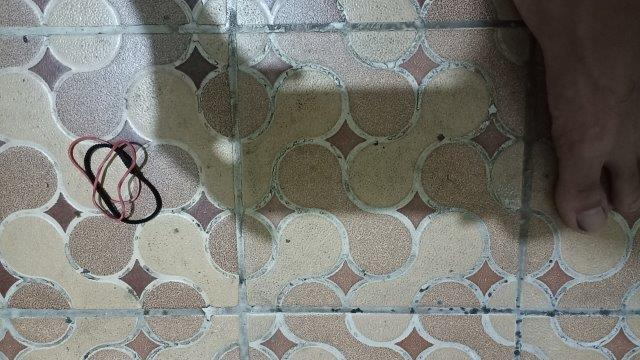karet: (68, 137, 162, 224)
